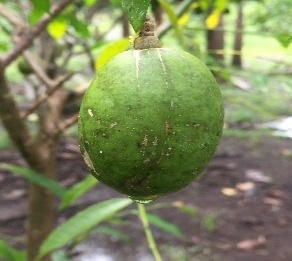Coc: (78, 48, 225, 197)
